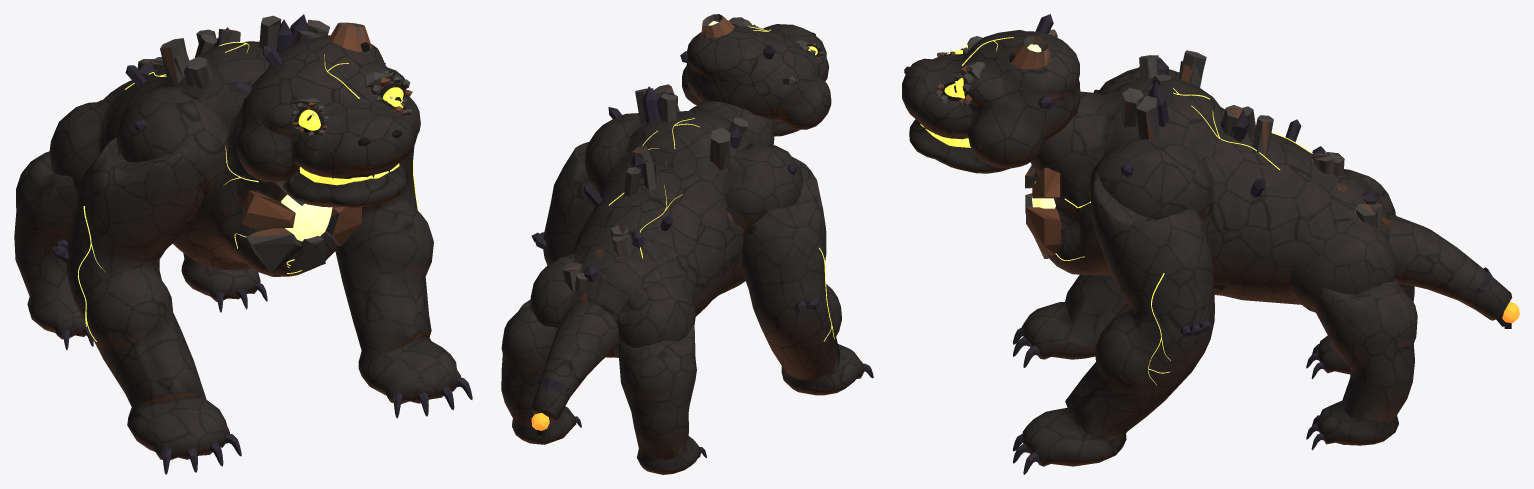
Rendered from MagmaCub.fbx.
3 renders of one model, left to right at view 1: azimuth 30°, elevation 25°; view 2: azimuth 150°, elevation 25°; view 3: azimuth 270°, elevation 25°, orthographic. The views are drawn at different scales.
Visible parts, largest first — view 1: MagmaCub_Body, MagmaCub_ArmR, MagmaCub_Head, MagmaCub_ArmL, MagmaCub_LegR, MagmaCub_LegL, MagmaCub_Body_Glow_ffce61, MagmaCub_Head_Glow_ff9b30, MagmaCub_Head_Glow_ffad27; view 2: MagmaCub_Body, MagmaCub_ArmR, MagmaCub_Head, MagmaCub_LegR, MagmaCub_LegL, MagmaCub_Tail, MagmaCub_ArmL; view 3: MagmaCub_Body, MagmaCub_ArmL, MagmaCub_Head, MagmaCub_LegL, MagmaCub_Tail, MagmaCub_ArmR, MagmaCub_LegR.
Part boxes in pixels (x1,y1,x2,y2): MagmaCub_Body: (49,14,385,276); MagmaCub_ArmR: (51,137,241,474); MagmaCub_Head: (228,22,420,208); MagmaCub_ArmL: (335,146,472,418); MagmaCub_LegR: (14,151,93,350); MagmaCub_LegL: (181,253,267,312); MagmaCub_Body_Glow_ffce61: (281,194,332,241); MagmaCub_Head_Glow_ff9b30: (299,54,399,185); MagmaCub_Head_Glow_ffad27: (298,87,403,130); MagmaCub_Body: (530,84,802,357); MagmaCub_ArmR: (742,157,873,395); MagmaCub_Head: (680,14,831,136); MagmaCub_LegR: (618,324,706,474); MagmaCub_LegL: (501,300,581,444); MagmaCub_Tail: (531,302,619,431); MagmaCub_ArmL: (531,142,599,265); MagmaCub_Body: (1025,50,1396,312); MagmaCub_ArmL: (1013,171,1214,474); MagmaCub_Head: (902,14,1080,173); MagmaCub_LegL: (1306,278,1417,449); MagmaCub_Tail: (1389,215,1512,326); MagmaCub_ArmR: (1013,89,1130,367); MagmaCub_LegR: (1306,215,1414,378).
Size of the model in its own units: 1.09 by 1.21 by 1.76.
8 materials, 1 textured.
